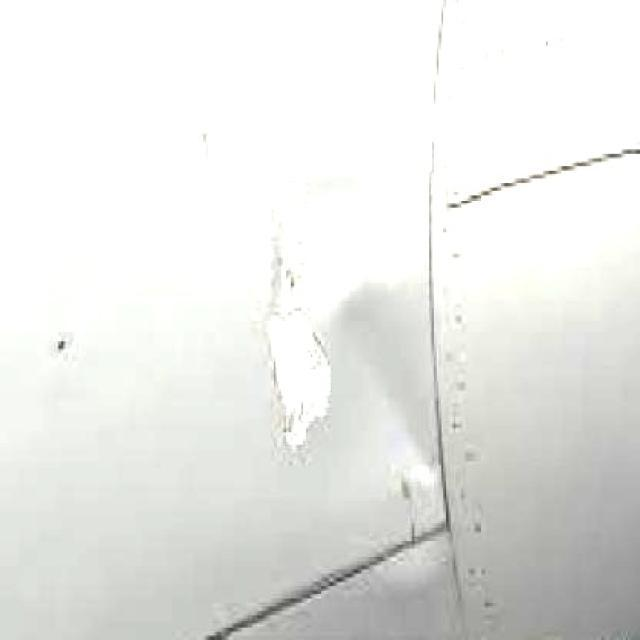dent: (325, 279, 441, 490), (243, 231, 337, 463)
